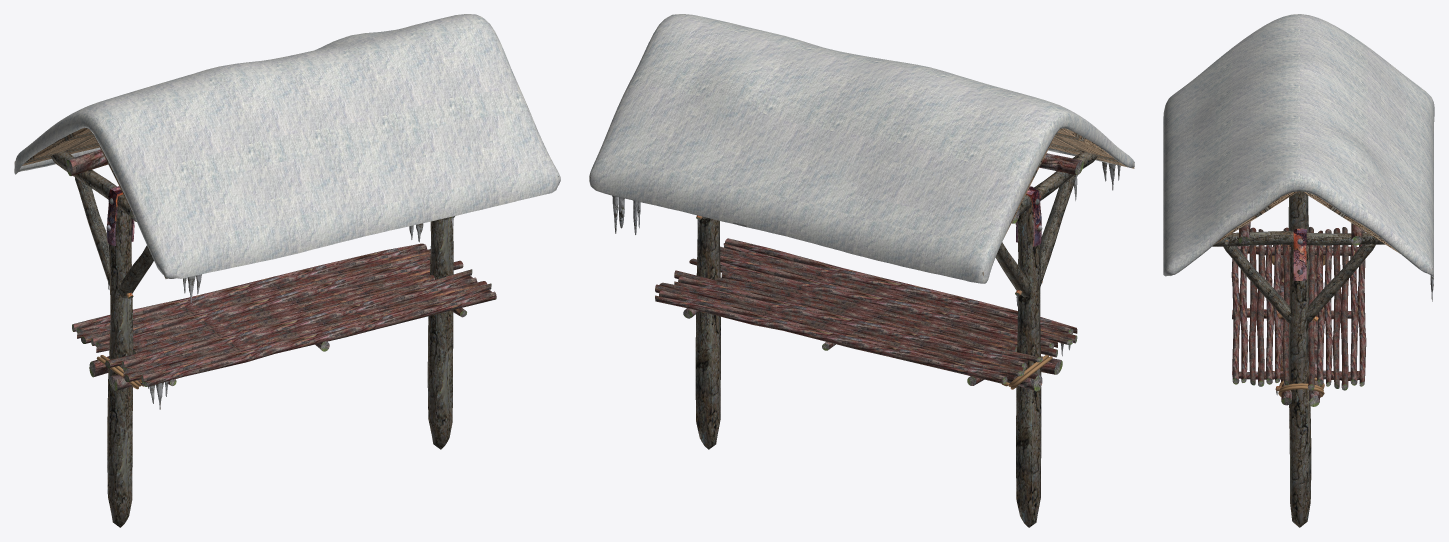
Rendered from ChristmasStall.fbx.
3 views of the same model, side by side, from view 1: azimuth 30°, elevation 25°; view 2: azimuth 150°, elevation 25°; view 3: azimuth 270°, elevation 25° (orthographic). The views are drawn at different scales.
Parts seen in each view (by area): view 1: default; view 2: default; view 3: default.
Part boxes in pixels (bbox=[...]): default: bbox=[14, 14, 560, 527]; default: bbox=[589, 14, 1134, 527]; default: bbox=[1163, 14, 1434, 527].
Bounding box in the file's own units: 488 × 503 × 329.
